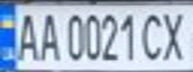0: (60, 9, 84, 62), (81, 10, 103, 62)
1: (118, 9, 142, 62)
2: (100, 10, 121, 61)
A: (12, 8, 42, 62), (33, 9, 60, 62)
C: (139, 9, 166, 61)
X: (157, 8, 193, 62)
